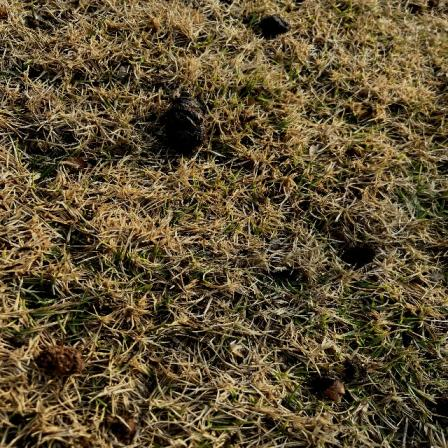dog-poop: (170, 80, 209, 155), (255, 4, 293, 39)
